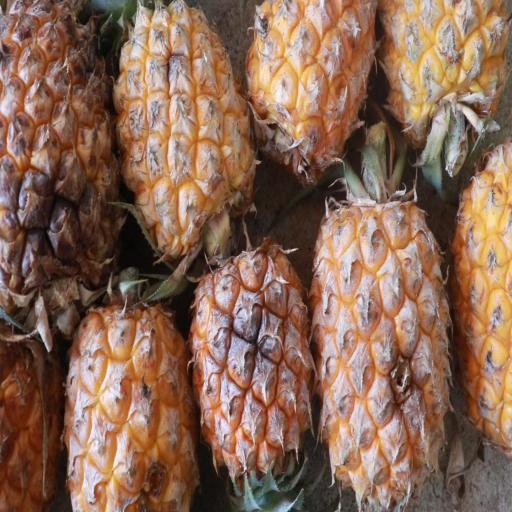Pineapple - v8 v1: (308, 161, 456, 512), (108, 1, 259, 260), (0, 0, 118, 322), (62, 267, 204, 512), (187, 228, 318, 492), (246, 0, 382, 191), (378, 0, 508, 155)
